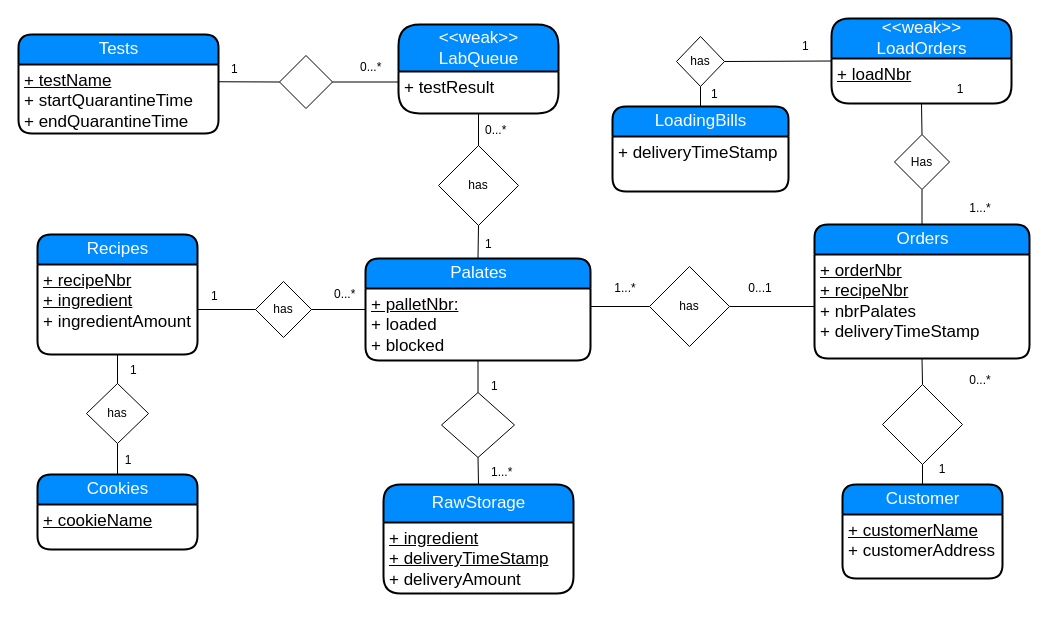
Image size: 1047x628. Some labels were removed from this diagram. The shapes that lost their labels are listed below. From the top down, each one's centre as x and y in pixels, then its label:
the point at 305,81: uses
the point at 477,425: Updates
the point at 922,424: Makes
